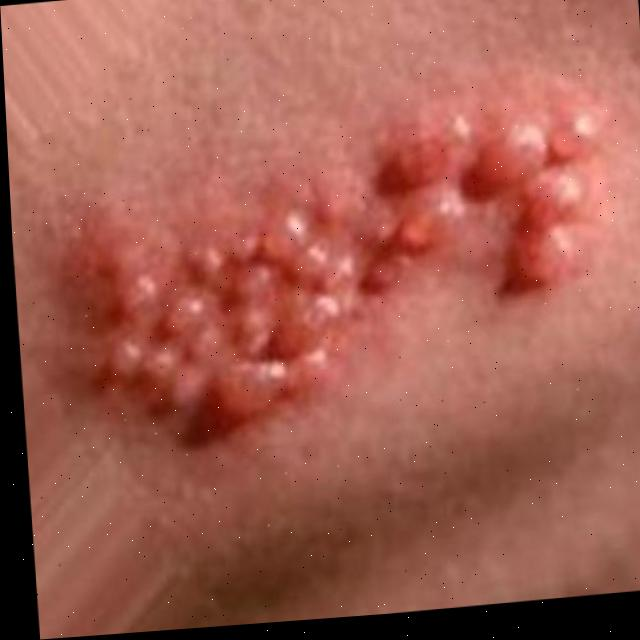Shingles: (93, 113, 611, 434)
